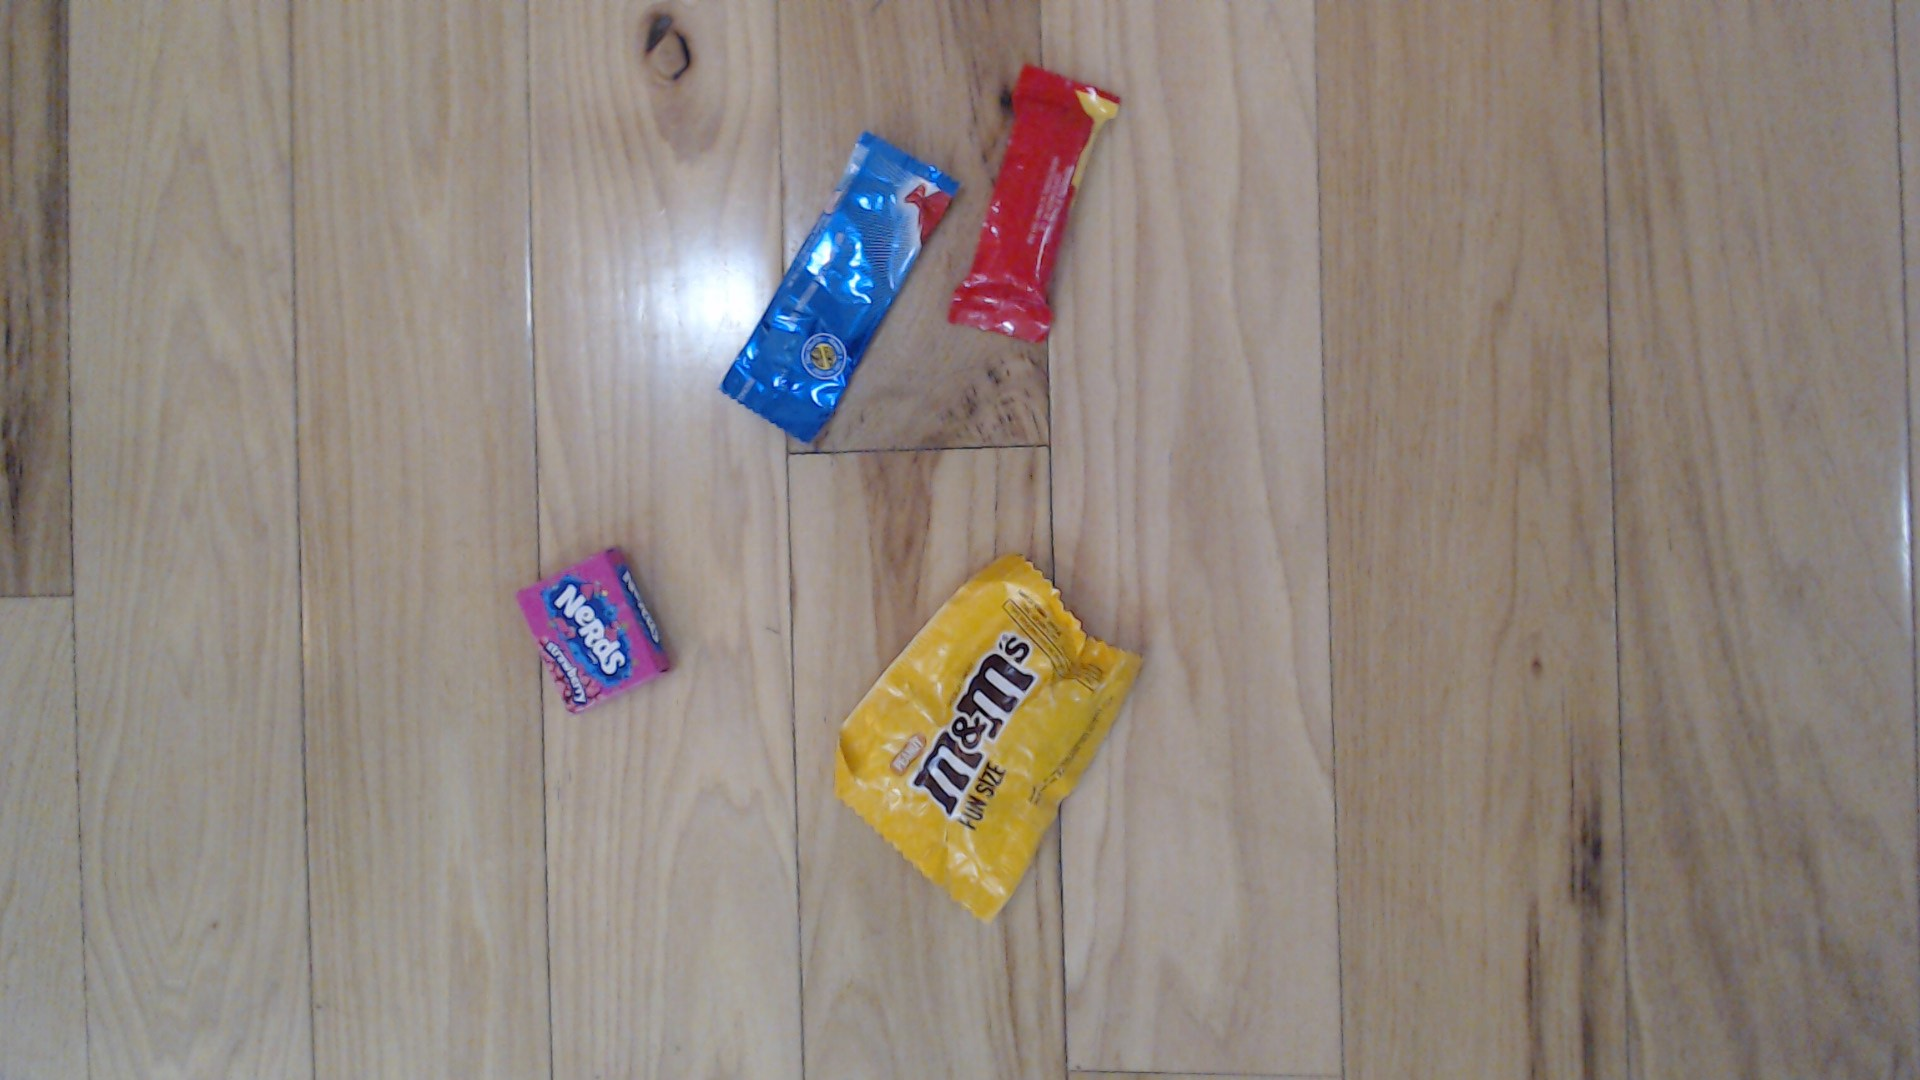MMs_regular: (833, 543, 1130, 949), (713, 112, 960, 458)
nerds: (468, 547, 699, 720)
starbust: (951, 18, 1093, 388)
